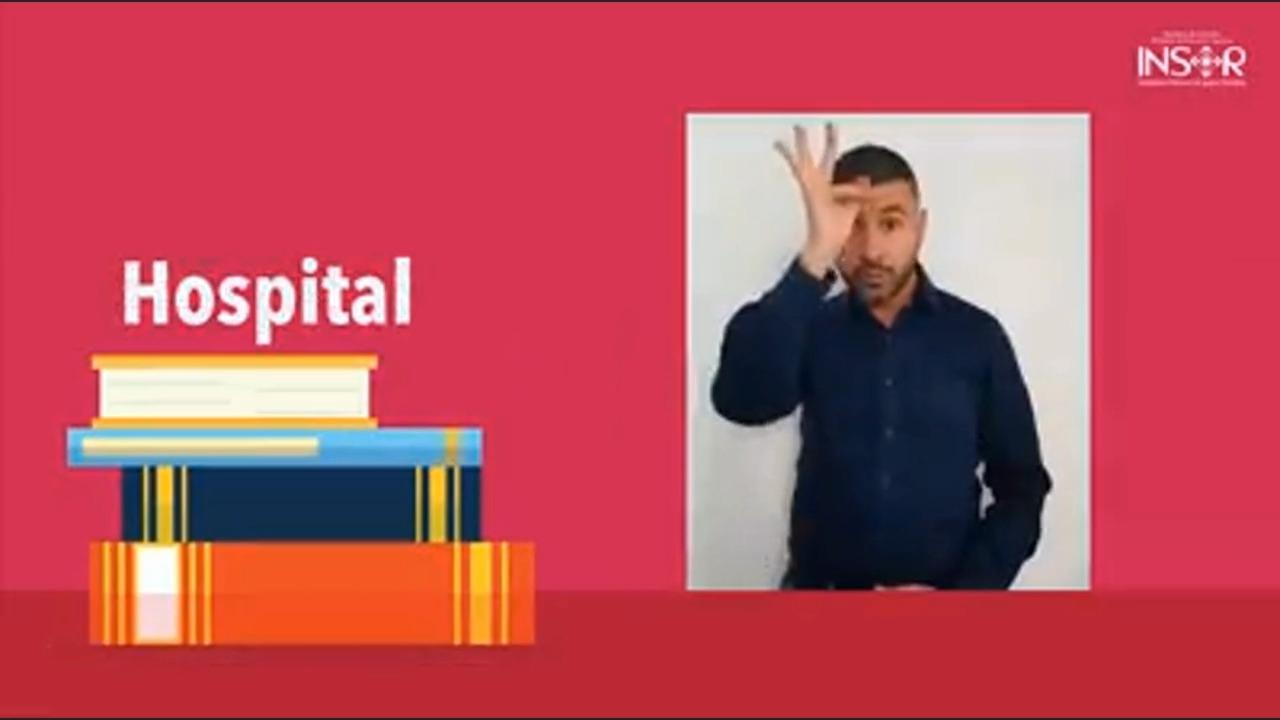Hospital: (708, 118, 1082, 547)
